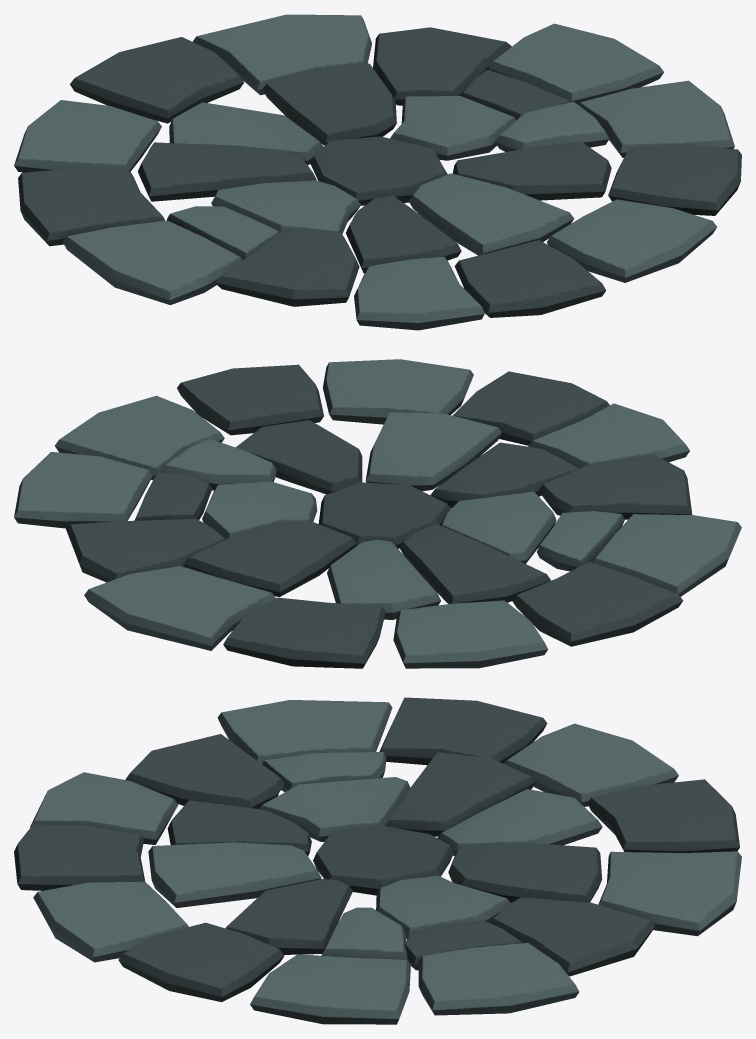
3 renders of one model, top to bottom at view 1: azimuth 30°, elevation 25°; view 2: azimuth 150°, elevation 25°; view 3: azimuth 270°, elevation 25°, orthographic. The views are drawn at different scales.
Visible parts, largest first — view 1: Stone_Circle; view 2: Stone_Circle; view 3: Stone_Circle.
Boxes of the visible parts, <box> form: Stone_Circle: <box>14,14,741,330</box>; Stone_Circle: <box>14,359,741,668</box>; Stone_Circle: <box>14,697,741,1024</box>.
Bounding box in the file's own units: 4.88 × 0.1659 × 4.74.
Materials: 1 (1 with a texture image).
